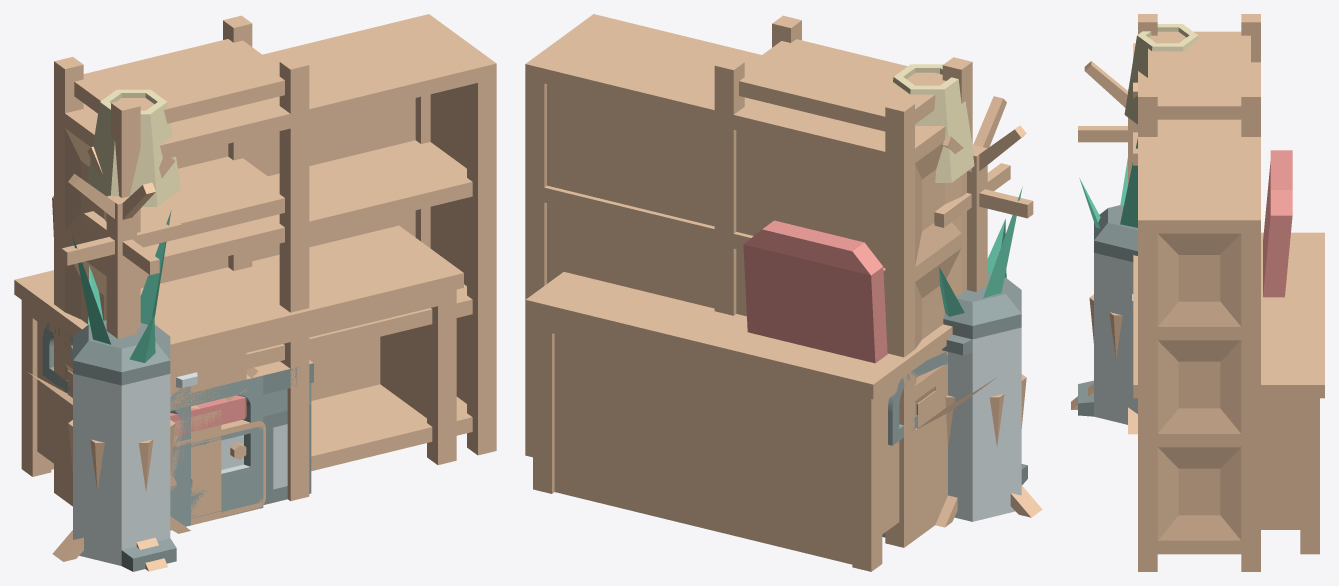
Rendered from kit-furniture.glb.
3 renders of one model, left to right at view 1: azimuth 30°, elevation 25°; view 2: azimuth 150°, elevation 25°; view 3: azimuth 270°, elevation 25°, orthographic. The views are drawn at different scales.
Parts seen in each view (by area): view 1: bookcaseClosedWide, desk, bookcaseOpen, trashcan, coatRackStanding, televisionVintage, lampRoundFloor, radio, pottedPlant, cardboardBoxClosed, chairDesk, speakerSmall; view 2: bookcaseClosedWide, desk, bookcaseOpen, chairDesk, trashcan, coatRackStanding, lampRoundFloor, televisionVintage, pottedPlant; view 3: bookcaseClosedWide, desk, bookcaseOpen, trashcan, chairDesk, coatRackStanding, lampRoundFloor, pottedPlant.
Part boxes in pixels (left/top/right/bottom): bookcaseClosedWide: left=54, top=14, right=496, bottom=500; desk: left=14, top=225, right=463, bottom=476; bookcaseOpen: left=54, top=15, right=309, bottom=501; trashcan: left=70, top=320, right=176, bottom=571; coatRackStanding: left=52, top=146, right=190, bottom=571; televisionVintage: left=67, top=360, right=313, bottom=517; lampRoundFloor: left=87, top=89, right=180, bottom=206; radio: left=170, top=420, right=265, bottom=525; pottedPlant: left=68, top=210, right=175, bottom=491; cardboardBoxClosed: left=65, top=393, right=221, bottom=525; chairDesk: left=42, top=196, right=246, bottom=435; speakerSmall: left=170, top=386, right=190, bottom=530; bookcaseClosedWide: left=525, top=14, right=972, bottom=547; desk: left=525, top=272, right=952, bottom=571; bookcaseOpen: left=714, top=15, right=972, bottom=547; chairDesk: left=743, top=220, right=947, bottom=445; trashcan: left=942, top=273, right=1027, bottom=521; coatRackStanding: left=934, top=96, right=1042, bottom=527; lampRoundFloor: left=893, top=64, right=974, bottom=182; televisionVintage: left=916, top=382, right=947, bottom=537; pottedPlant: left=939, top=187, right=1026, bottom=446; bookcaseClosedWide: left=1138, top=62, right=1260, bottom=571; desk: left=1132, top=232, right=1324, bottom=554; bookcaseOpen: left=1138, top=14, right=1260, bottom=136; trashcan: left=1078, top=205, right=1137, bottom=424; chairDesk: left=1263, top=150, right=1292, bottom=297; coatRackStanding: left=1071, top=43, right=1137, bottom=434; lampRoundFloor: left=1124, top=24, right=1198, bottom=124; pottedPlant: left=1079, top=138, right=1137, bottom=359.
Bounding box in the file's own units: 0.9364 × 0.88 × 0.5164.
